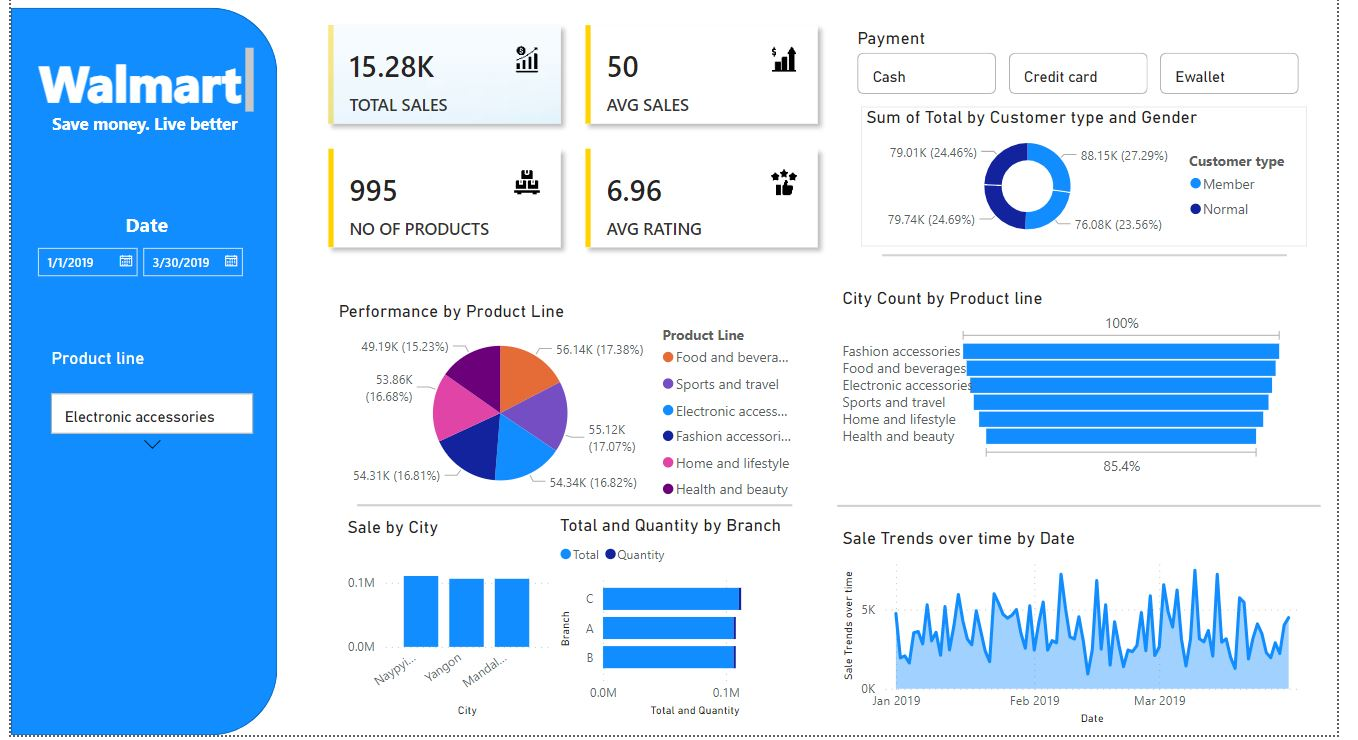

Layout of this report page (visuals, bound fields, positions):
{"tool":"powerbi","page":{"name":"Page 1","canvas":[1280,720],"ordinal":0},"visuals":[{"type":"shape","box":[0,18.1,256.9,701.9],"z":0},{"type":"cardVisual","fields":{"Data":["Salesdata.Total Sales","Salesdata.Avg Sales","Salesdata.No of Product","Salesdata.Avg Rating"]},"box":[289.4,18.1,507.7,248.4],"z":1000},{"type":"clusteredColumnChart","fields":{"Category":["WalmartSalesData csv.City"],"Y":["Sum(WalmartSalesData csv.Total)"]},"box":[319.6,508.9,205,197.8],"z":2000},{"type":"areaChart","fields":{"Category":["WalmartSalesData csv.Date"],"Y":["Sum(WalmartSalesData csv.Total)"]},"box":[797.2,519.8,466.7,195.4],"z":3000},{"type":"pieChart","fields":{"Category":["WalmartSalesData csv.Product line"],"Y":["Sum(WalmartSalesData csv.Total)"]},"box":[311.2,300.3,457.1,199],"z":4000},{"type":"advancedSlicerVisual","fields":{"Values":["WalmartSalesData csv.Payment"]},"box":[811.7,37.4,439,69.9],"z":5000},{"type":"donutChart","fields":{"Y":["Sum(WalmartSalesData csv.Total)"],"Category":["WalmartSalesData csv.Customer type"],"Series":["WalmartSalesData csv.Gender"]},"box":[820.1,113.4,430.6,135.1],"z":6000},{"type":"textbox","box":[17.8,52.1,220.9,72.7],"z":7000},{"type":"textbox","box":[9.6,113.9,238.8,39.8],"z":8000},{"type":"funnel","fields":{"Category":["WalmartSalesData csv.Product line"],"Y":["CountNonNull(WalmartSalesData csv.City)"]},"box":[797.2,288.2,436.6,185.7],"z":9000},{"type":"shape","box":[334.1,487.2,419.7,21.7],"z":10000},{"type":"shape","box":[797.2,490.9,466.7,15.7],"z":11000},{"type":"shape","box":[840.6,248.4,390.8,16.9],"z":12000},{"type":"barChart","fields":{"Y":["Sum(WalmartSalesData csv.Total)","Sum(WalmartSalesData csv.Quantity)"],"Category":["WalmartSalesData csv.Branch"]},"box":[524.6,506.5,243.6,200.2],"z":13000},{"type":"slicer","title":"Date","fields":{"Values":["WalmartSalesData csv.Date"]},"box":[13.3,209.8,235.2,76],"z":14000},{"type":"advancedSlicerVisual","fields":{"Values":["WalmartSalesData csv.Product line"]},"box":[33.8,346.1,205,108.5],"z":15000}]}

Visuals, with their boxes on the page's 1280x720 design canvas (x1, y1, x2, y2). These are canvas units, not pixel positions in the 1358x740 screenshot, which may show the page scaled, cropped or inside an application window:
shape: 0,18,257,720
cardVisual - Salesdata.Total Sales x Salesdata.Avg Sales: 289,18,797,266
clusteredColumnChart - WalmartSalesData csv.City x Sum(WalmartSalesData csv.Total): 320,509,525,707
areaChart - WalmartSalesData csv.Date x Sum(WalmartSalesData csv.Total): 797,520,1264,715
pieChart - WalmartSalesData csv.Product line x Sum(WalmartSalesData csv.Total): 311,300,768,499
advancedSlicerVisual - WalmartSalesData csv.Payment: 812,37,1251,107
donutChart - Sum(WalmartSalesData csv.Total) x WalmartSalesData csv.Customer type: 820,113,1251,248
textbox: 18,52,239,125
textbox: 10,114,248,154
funnel - WalmartSalesData csv.Product line x CountNonNull(WalmartSalesData csv.City): 797,288,1234,474
shape: 334,487,754,509
shape: 797,491,1264,507
shape: 841,248,1231,265
barChart - Sum(WalmartSalesData csv.Total) x Sum(WalmartSalesData csv.Quantity): 525,506,768,707
"Date" slicer: 13,210,248,286
advancedSlicerVisual - WalmartSalesData csv.Product line: 34,346,239,455
